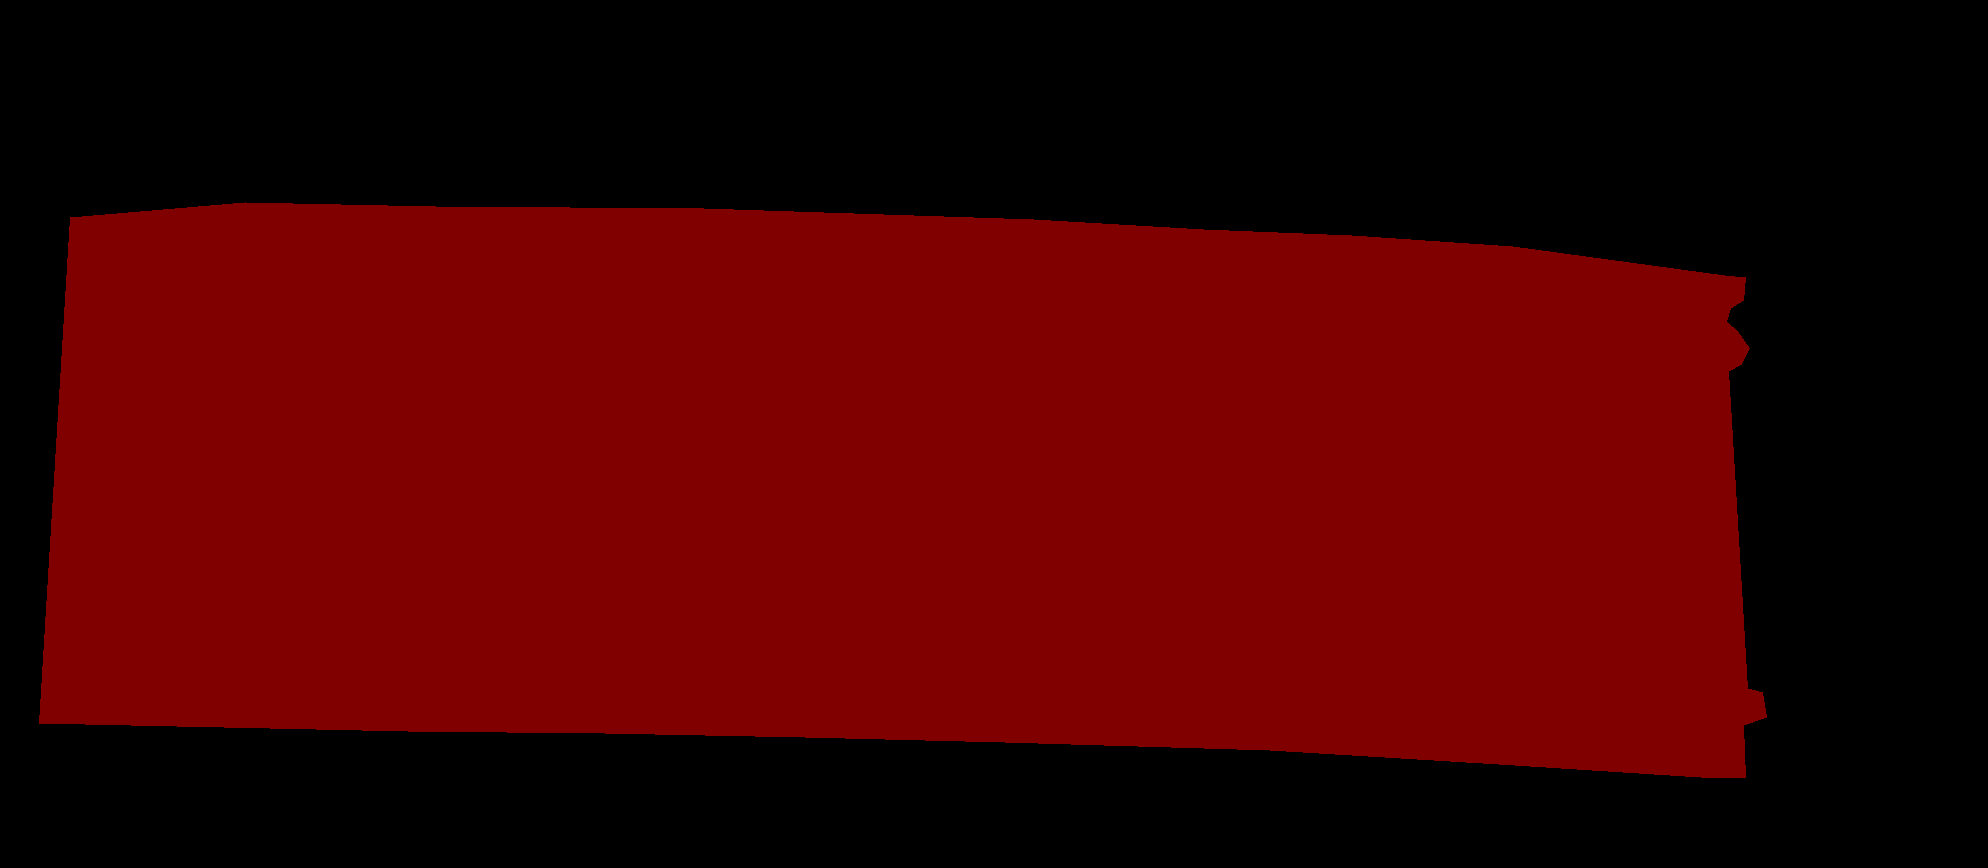sign: (39, 201, 1766, 777)
